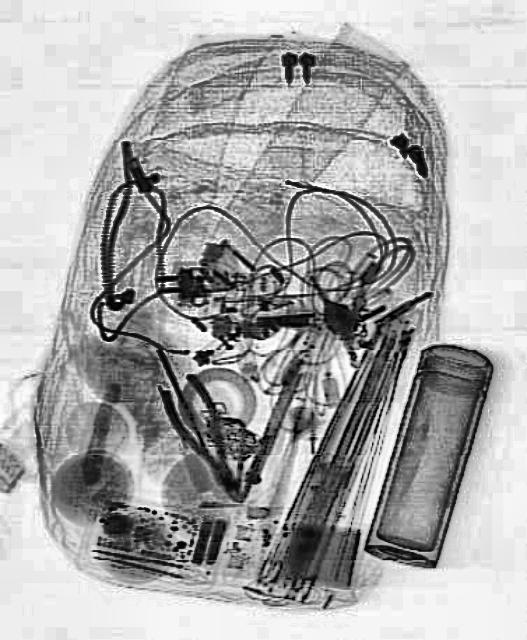Pliers: (154, 364, 258, 514)
